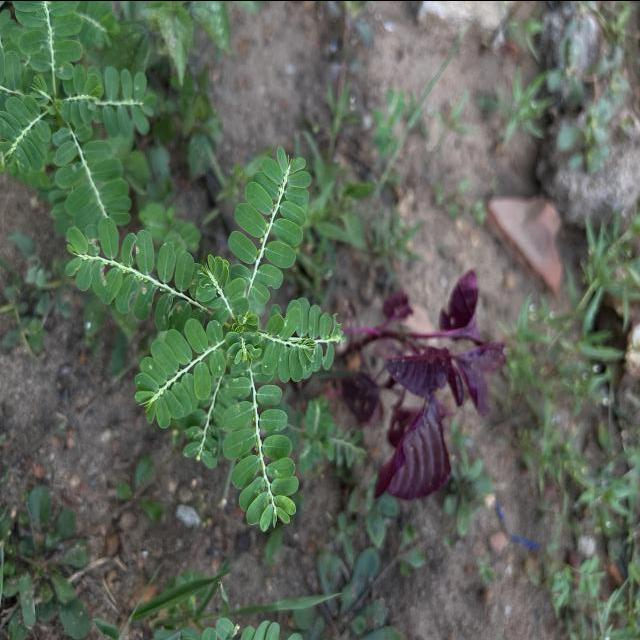Phyllanthus niruri: (62, 215, 208, 325), (225, 140, 315, 310), (220, 367, 301, 532), (131, 318, 232, 430), (257, 295, 348, 383)
